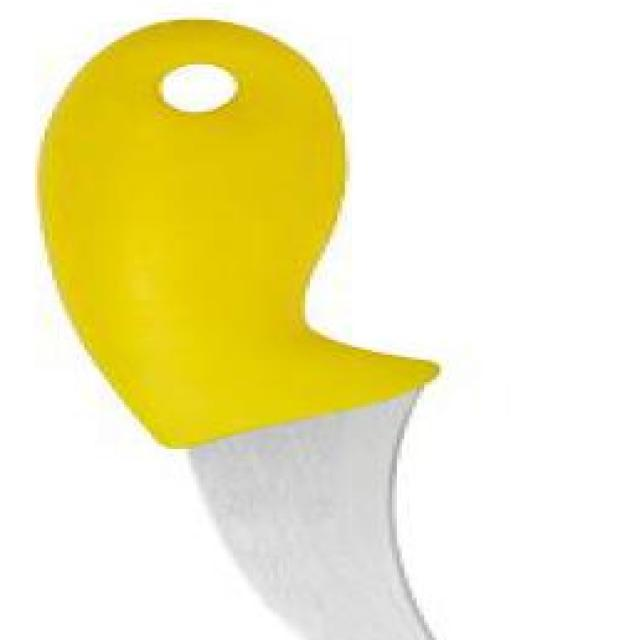knife: (8, 17, 544, 640)
